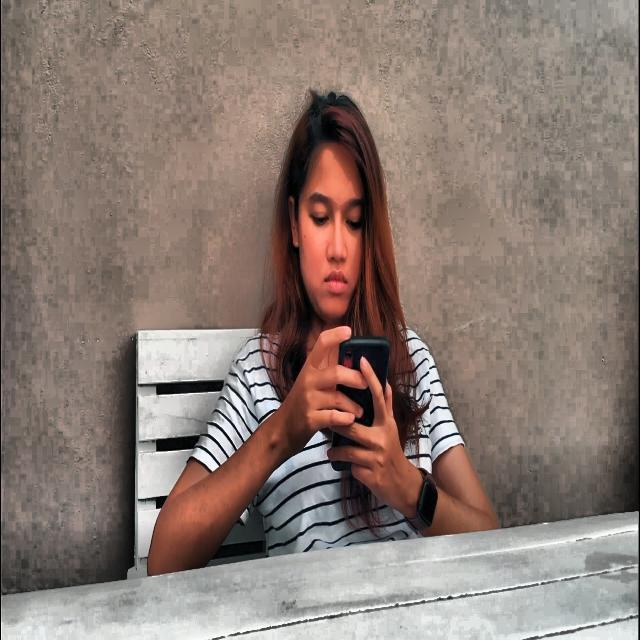Phone: (330, 336, 390, 473)
